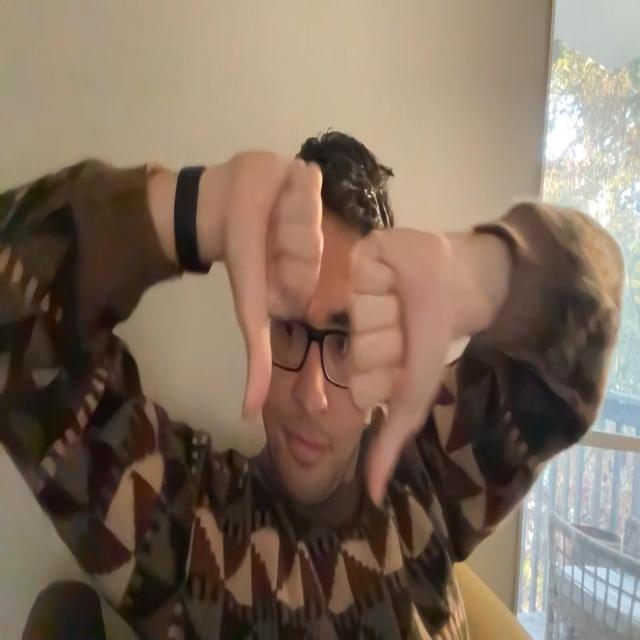face: (260, 235, 381, 506)
